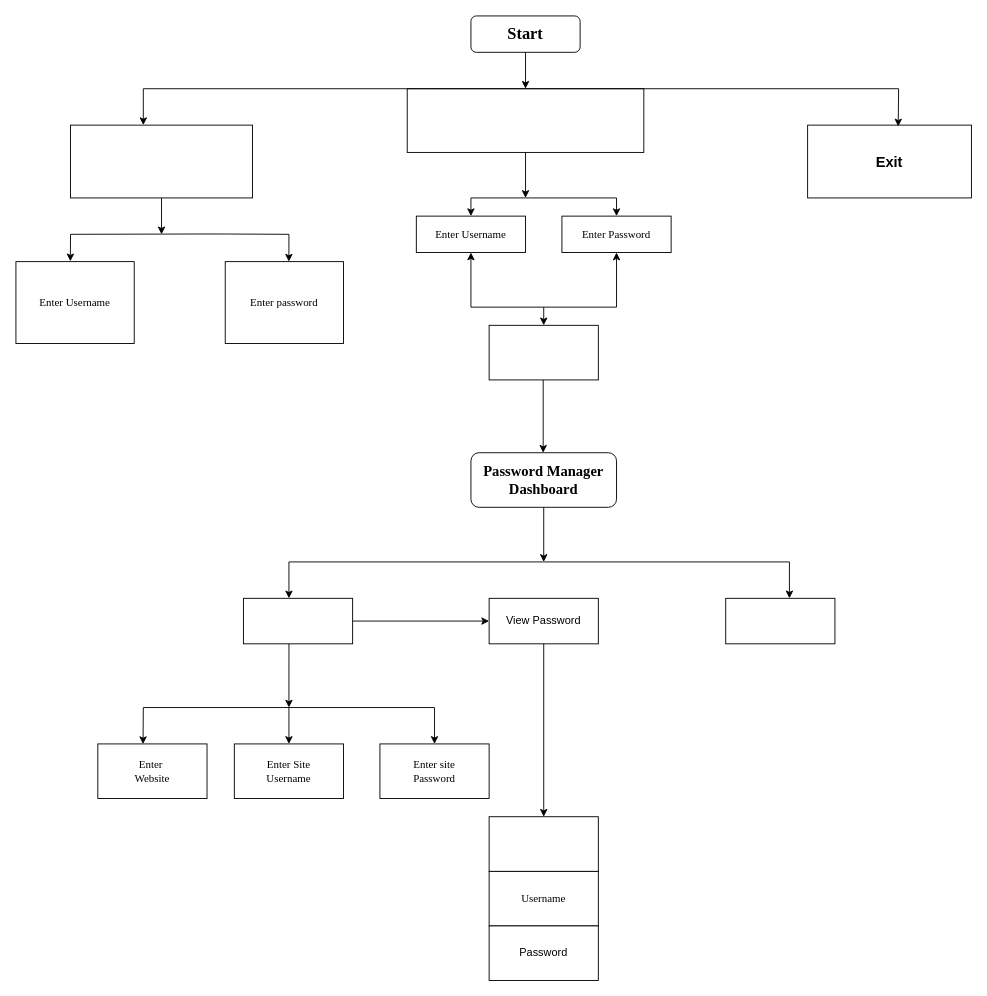
This 987x996 diagram has some shape labels left out. Here are the shapes that lost their labels. From the top down, the centre of each, then its label:
(x=525, y=120): Login
(x=161, y=161): Register
(x=543, y=352): Login Successfully
(x=298, y=620): Save Password
(x=780, y=620): Logout
(x=543, y=843): Site
